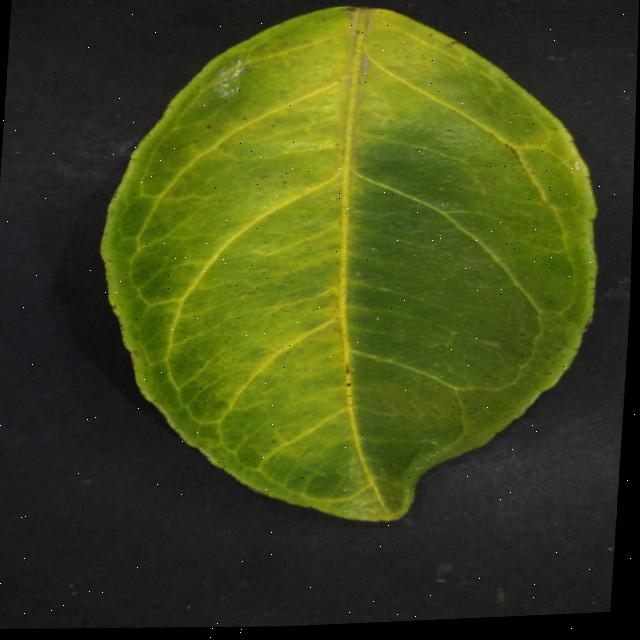greening: (101, 5, 595, 520)
